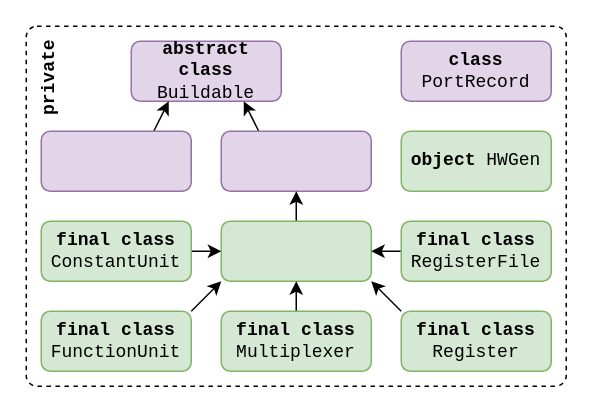
The diagram is 593 pixels wide and 413 high, and some of its shapes have lost their labels. The box of each missing label's shape, as (x1, y1, x2, y2) in pixels:
abstract class Primitive: (220, 220, 371, 281)
class SubModule: (220, 130, 371, 191)
class TopModule: (40, 130, 191, 191)
